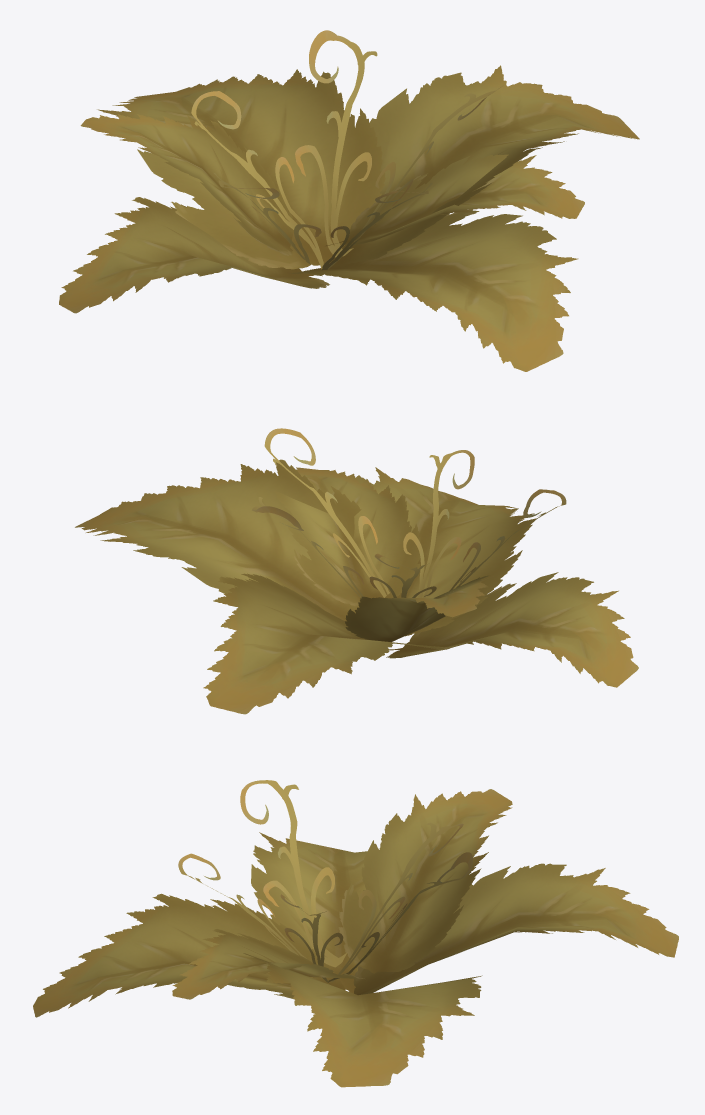
File: fern2.fbx
3 views of the same model, one above another, from view 1: azimuth 30°, elevation 25°; view 2: azimuth 150°, elevation 25°; view 3: azimuth 270°, elevation 25° (orthographic). The views are drawn at different scales.
Visible parts, largest first — view 1: pPlane38; view 2: pPlane38; view 3: pPlane38.
Boxes of the visible parts, x1=… form: pPlane38: x1=59, y1=30, x2=639, y2=371; pPlane38: x1=75, y1=428, x2=638, y2=714; pPlane38: x1=33, y1=780, x2=678, y2=1087.
Bounding box in the file's own units: 37.66 × 11.55 × 38.33.
